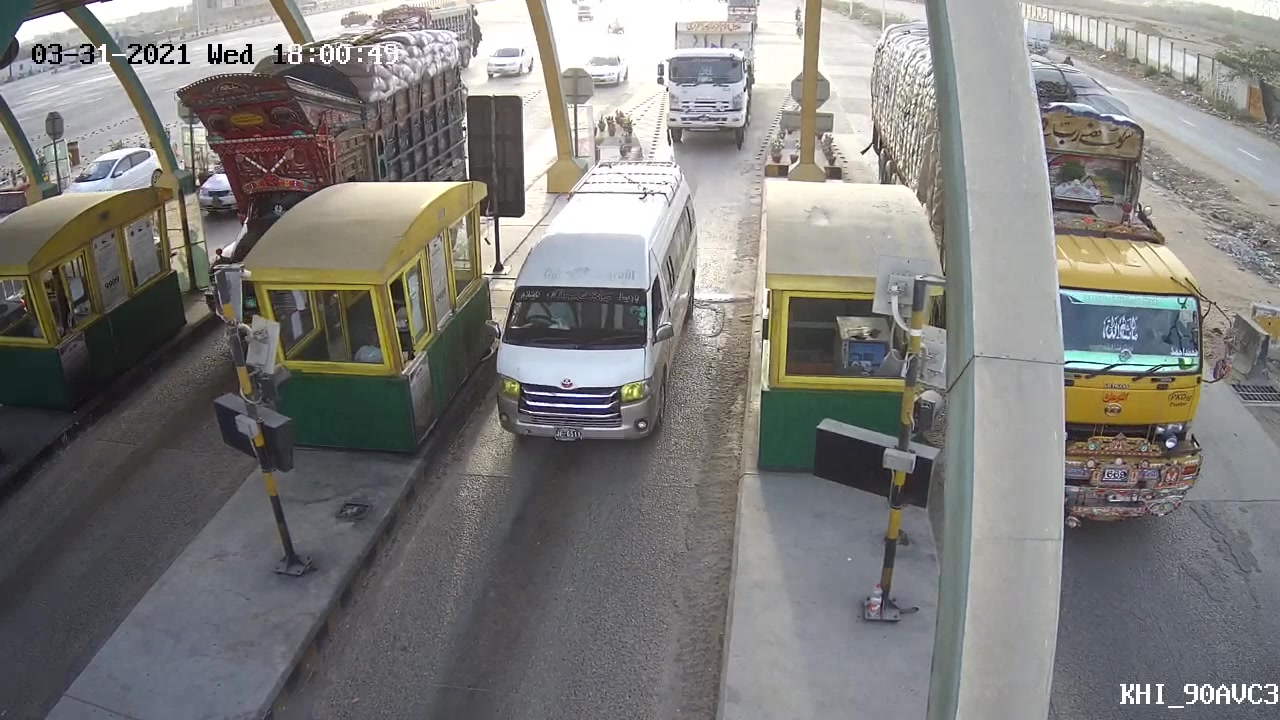F2: (490, 156, 701, 449)
